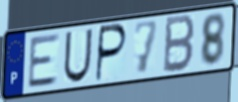7: (132, 18, 159, 77)
8: (199, 11, 227, 68)
B: (161, 13, 197, 75)
E: (26, 32, 62, 91)
P: (94, 23, 129, 85)
U: (62, 27, 95, 85)
